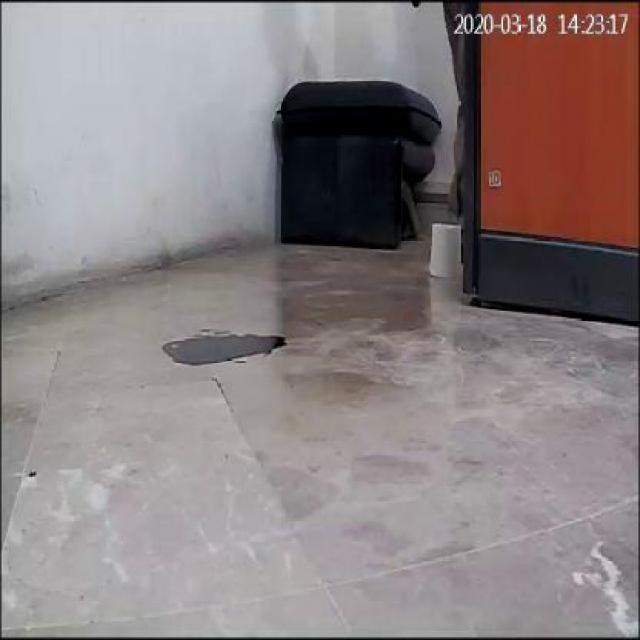spill: (161, 328, 285, 366)
